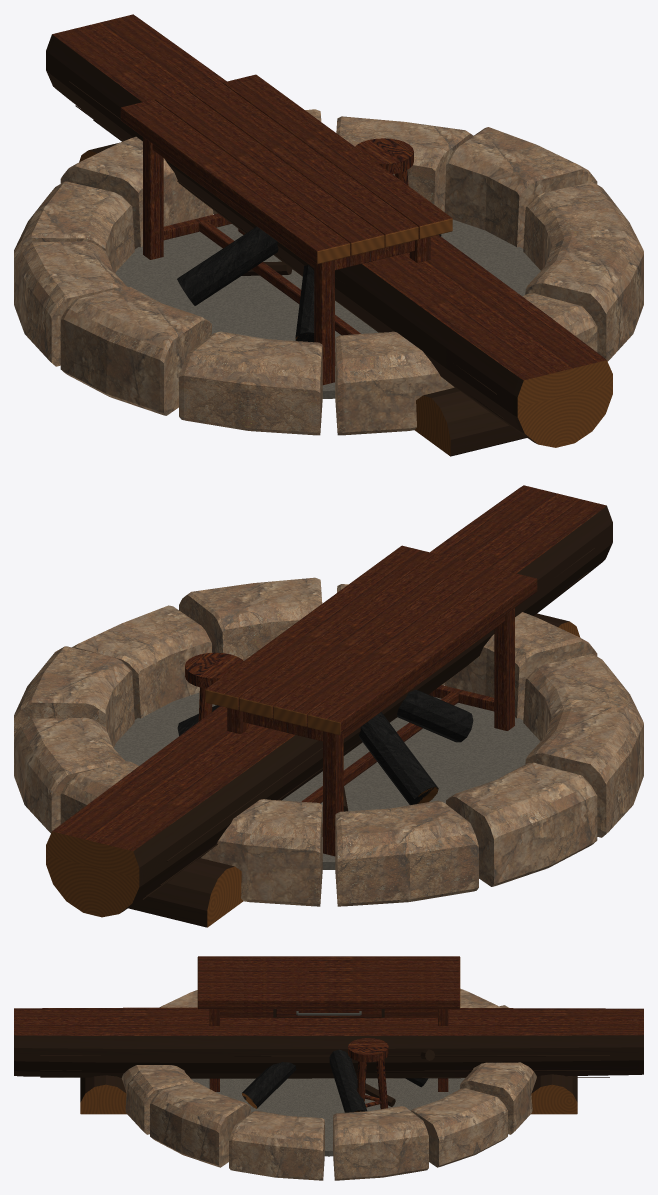
Rendered from camp-props-v1.glb.
3 renders of one model, top to bottom at view 1: azimuth 30°, elevation 25°; view 2: azimuth 150°, elevation 25°; view 3: azimuth 270°, elevation 25°, orthographic. The views are drawn at different scales.
Visible parts, largest first — view 1: C05 batch C05 Rock Face 03 | photographed mineral and chippe, C07 batch Camp cut timber | shared photographed grain, C06 batch Camp cut timber | shared photographed grain, C06 batch Camp ridged bark | authored longitudinal response, C05 batch C05 pale granular ash | authored powder response, C06 batch Camp exposed end grain | authored cut rings, C05 batch C05 charcoal | adapted photographed willow fissure, C07 batch Camp exposed end grain | authored cut rings; view 2: C05 batch C05 Rock Face 03 | photographed mineral and chippe, C07 batch Camp cut timber | shared photographed grain, C06 batch Camp cut timber | shared photographed grain, C06 batch Camp ridged bark | authored longitudinal response, C05 batch C05 pale granular ash | authored powder response, C06 batch Camp exposed end grain | authored cut rings, C05 batch C05 charcoal | adapted photographed willow fissure, C07 batch Camp exposed end grain | authored cut rings; view 3: C05 batch C05 Rock Face 03 | photographed mineral and chippe, C06 batch Camp ridged bark | authored longitudinal response, C07 batch Camp cut timber | shared photographed grain, C06 batch Camp cut timber | shared photographed grain, C05 batch C05 pale granular ash | authored powder response, C05 batch C05 charcoal | adapted photographed willow fissure, C06 batch Camp exposed end grain | authored cut rings.
Boxes of the visible parts, x1=… form: C05 batch C05 Rock Face 03 | photographed mineral and chippe: x1=14, y1=109, x2=643, y2=435; C07 batch Camp cut timber | shared photographed grain: x1=120, y1=74, x2=452, y2=385; C06 batch Camp cut timber | shared photographed grain: x1=52, y1=14, x2=606, y2=380; C06 batch Camp ridged bark | authored longitudinal response: x1=46, y1=34, x2=536, y2=456; C05 batch C05 pale granular ash | authored powder response: x1=115, y1=219, x2=540, y2=398; C06 batch Camp exposed end grain | authored cut rings: x1=79, y1=150, x2=612, y2=456; C05 batch C05 charcoal | adapted photographed willow fissure: x1=177, y1=226, x2=441, y2=342; C07 batch Camp exposed end grain | authored cut rings: x1=317, y1=218, x2=452, y2=263; C05 batch C05 Rock Face 03 | photographed mineral and chippe: x1=14, y1=577, x2=643, y2=906; C07 batch Camp cut timber | shared photographed grain: x1=185, y1=545, x2=537, y2=856; C06 batch Camp cut timber | shared photographed grain: x1=52, y1=485, x2=606, y2=851; C06 batch Camp ridged bark | authored longitudinal response: x1=120, y1=506, x2=612, y2=927; C05 batch C05 pale granular ash | authored powder response: x1=114, y1=692, x2=540, y2=869; C06 batch Camp exposed end grain | authored cut rings: x1=46, y1=621, x2=580, y2=927; C05 batch C05 charcoal | adapted photographed willow fissure: x1=177, y1=690, x2=473, y2=805; C07 batch Camp exposed end grain | authored cut rings: x1=205, y1=689, x2=340, y2=735; C05 batch C05 Rock Face 03 | photographed mineral and chippe: x1=121, y1=988, x2=536, y2=1180; C06 batch Camp ridged bark | authored longitudinal response: x1=14, y1=1035, x2=643, y2=1102; C07 batch Camp cut timber | shared photographed grain: x1=198, y1=956, x2=459, y2=1109; C06 batch Camp cut timber | shared photographed grain: x1=14, y1=1007, x2=643, y2=1035; C05 batch C05 pale granular ash | authored powder response: x1=191, y1=1078, x2=464, y2=1156; C05 batch C05 charcoal | adapted photographed willow fissure: x1=242, y1=1049, x2=428, y2=1112; C06 batch Camp exposed end grain | authored cut rings: x1=80, y1=1084, x2=577, y2=1114.
Bounding box in the file's own units: 3.2 × 0.8523 × 4.8.
7 materials, 6 textured.
